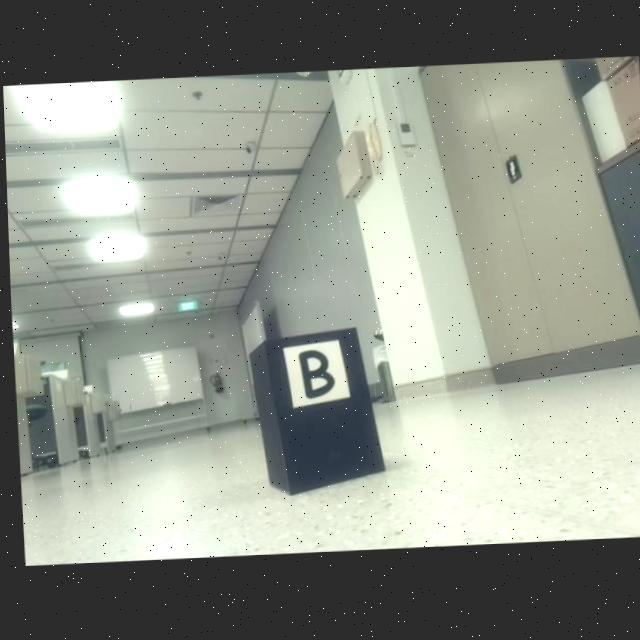B: (293, 351, 332, 401)
